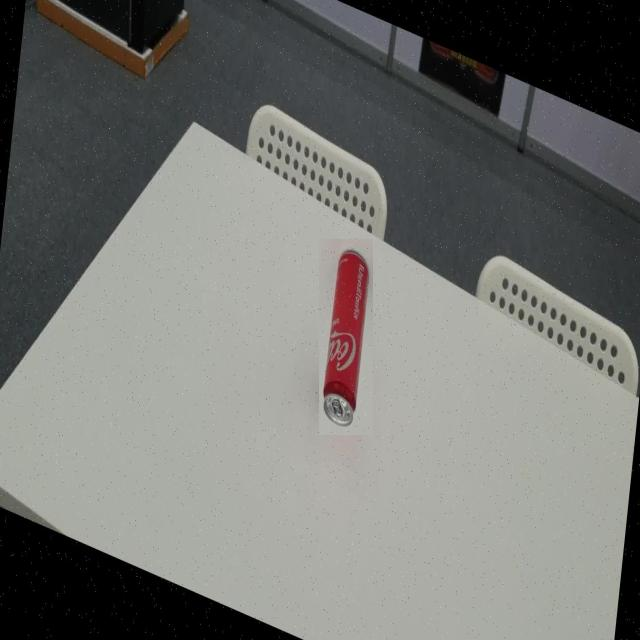coca-cola: (319, 239, 373, 435)
